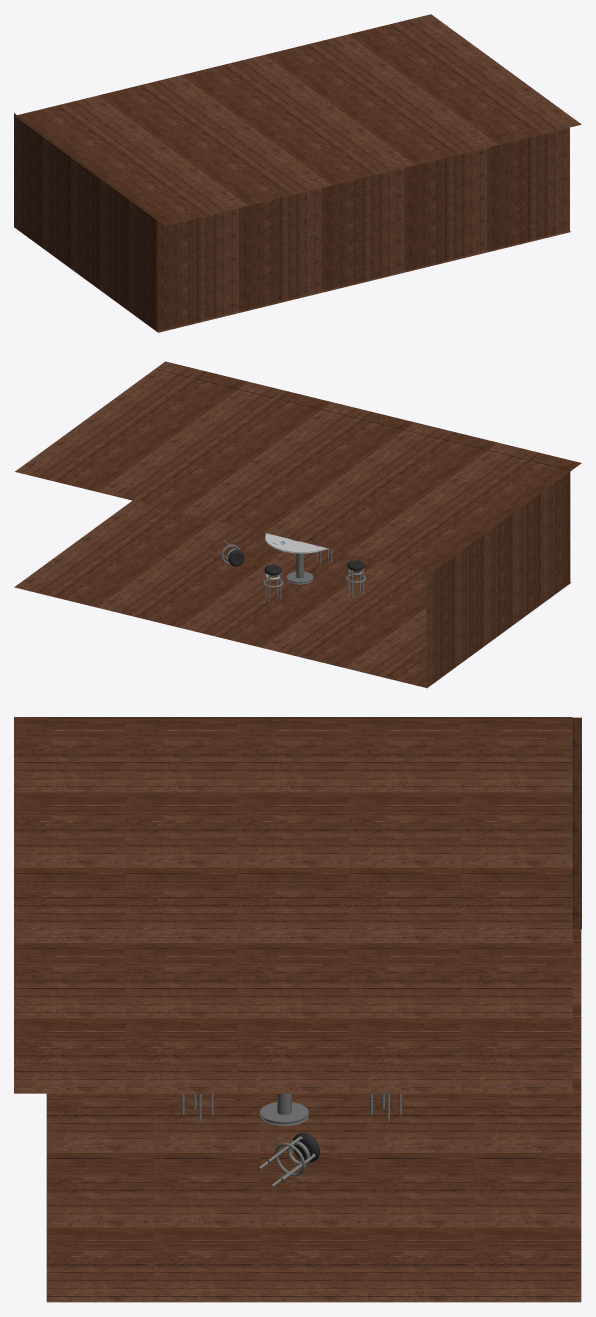
The model's file is Bar Scene_Beta.fbx.
3 views of the same model, one above another, from view 1: azimuth 30°, elevation 25°; view 2: azimuth 150°, elevation 25°; view 3: azimuth 270°, elevation 25° (orthographic). The views are drawn at different scales.
Visible parts, largest first — view 1: pPlane3, pPlane1, pasted__pPlane1, pPlane2; view 2: pPlane3, pPlane2, pasted__pPlane1, Bar_Table:pasted__pCylinder1, pPlane1, Bar_Chair:pasted__pTorus5, Bar_Chair10:pasted__pTorus5; view 3: pPlane3, pPlane2, pasted__pPlane1, Bar_Chair9:pasted__pTorus5, Bar_Table:pasted__pCylinder1.
Part boxes in pixels (bbox=[...]): pPlane3: bbox=[15, 14, 581, 225]; pPlane1: bbox=[156, 116, 569, 331]; pasted__pPlane1: bbox=[14, 113, 157, 331]; pPlane2: bbox=[14, 227, 570, 332]; pPlane3: bbox=[15, 361, 581, 573]; pPlane2: bbox=[14, 500, 570, 687]; pasted__pPlane1: bbox=[426, 469, 570, 688]; Bar_Table:pasted__pCylinder1: bbox=[265, 533, 327, 584]; pPlane1: bbox=[156, 369, 569, 583]; Bar_Chair:pasted__pTorus5: bbox=[263, 565, 283, 601]; Bar_Chair10:pasted__pTorus5: bbox=[345, 560, 365, 597]; pPlane3: bbox=[14, 717, 572, 1093]; pPlane2: bbox=[46, 929, 581, 1302]; pasted__pPlane1: bbox=[50, 717, 581, 929]; Bar_Chair9:pasted__pTorus5: bbox=[258, 1133, 319, 1186]; Bar_Table:pasted__pCylinder1: bbox=[260, 1093, 308, 1126].
Bounding box in the file's own units: 122 × 32.07 × 77.9.
